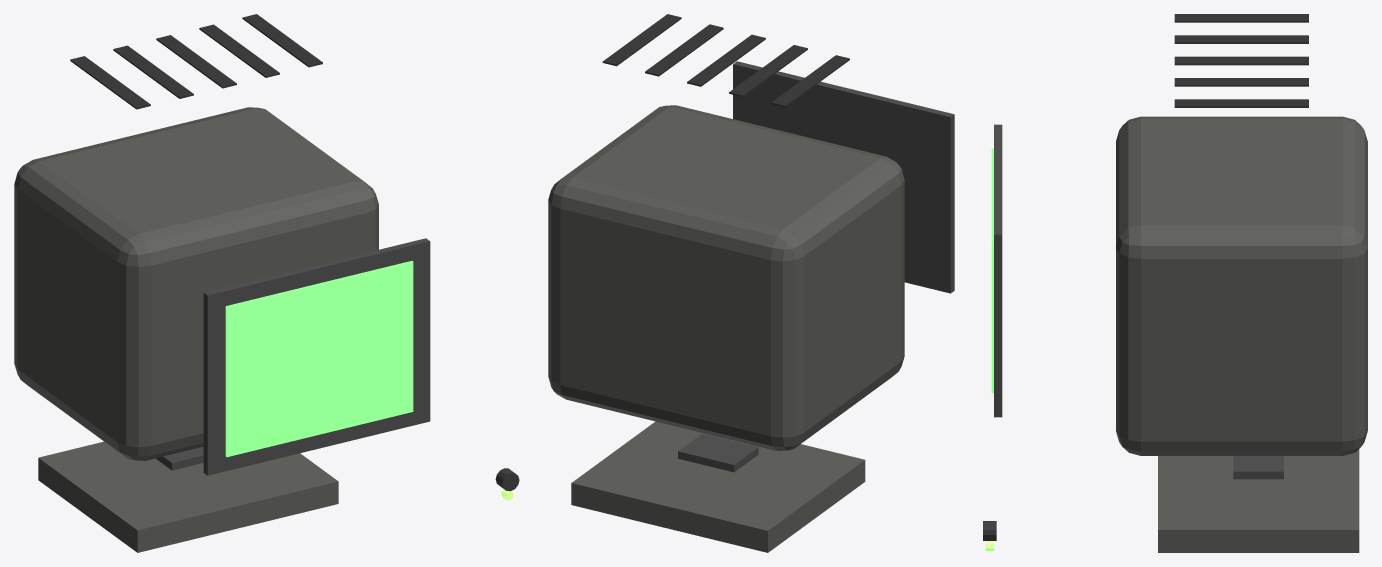
The model's file is prop_crt_monitor.glb.
3 renders of one model, left to right at view 1: azimuth 30°, elevation 25°; view 2: azimuth 150°, elevation 25°; view 3: azimuth 270°, elevation 25°, orthographic. The views are drawn at different scales.
Parts seen in each view (by area): view 1: prop_crt_monitor; view 2: prop_crt_monitor; view 3: prop_crt_monitor.
Boxes of the visible parts, bbox=[...] form: prop_crt_monitor: bbox=[14, 14, 519, 552]; prop_crt_monitor: bbox=[548, 14, 954, 552]; prop_crt_monitor: bbox=[983, 14, 1367, 552].
Bounding box in the file's own units: 0.226 × 0.291 × 0.229.
